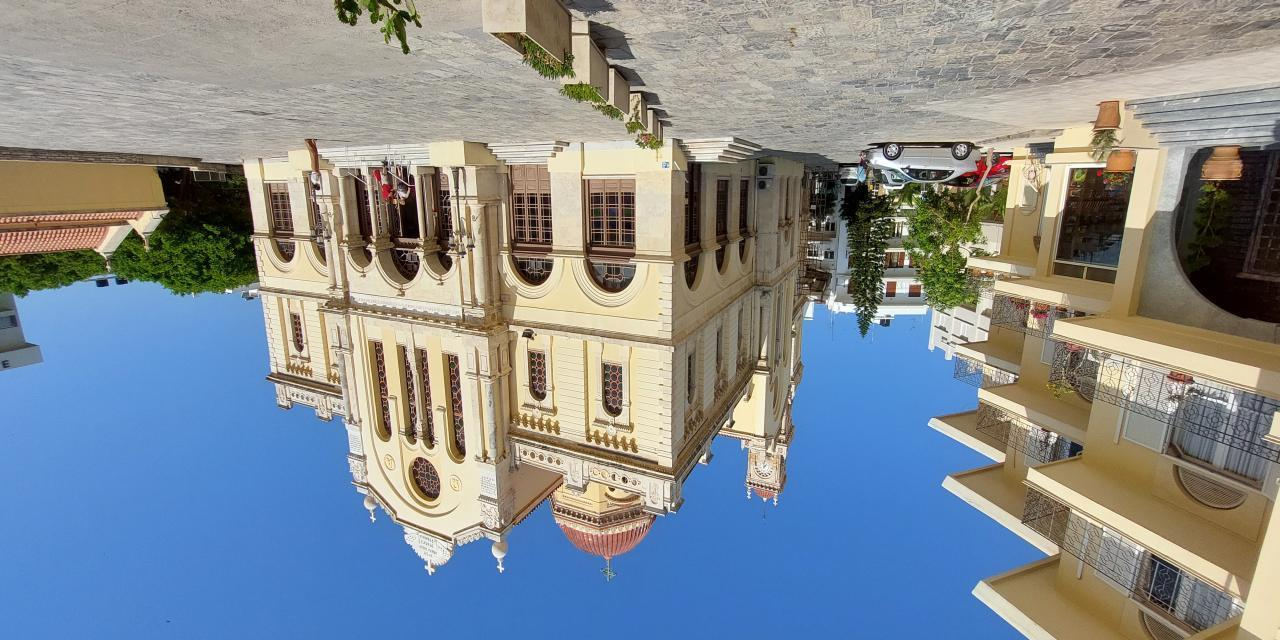Agios Minas: (242, 139, 820, 585)
